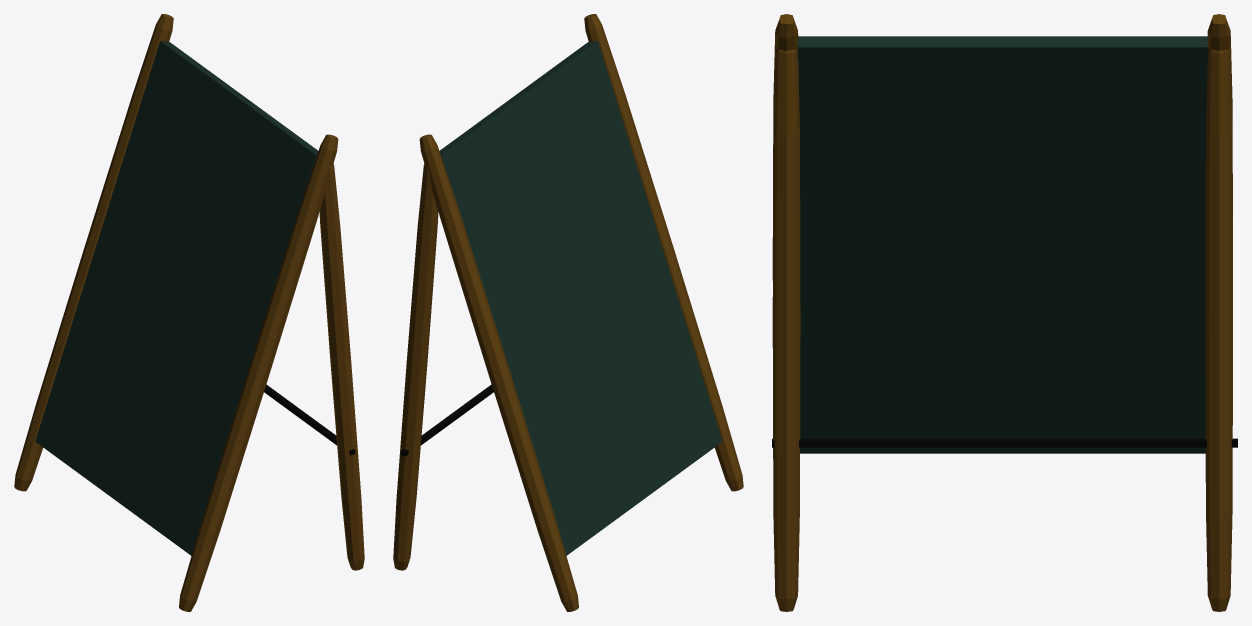
File: letrero.glb
3 views of the same model, side by side, from view 1: azimuth 30°, elevation 25°; view 2: azimuth 150°, elevation 25°; view 3: azimuth 270°, elevation 25° (orthographic). The views are drawn at different scales.
Visible parts, largest first — view 1: Cube.001, Cube, Cube.002, Cube.003; view 2: Cube.001, Cube, Cube.002, Cube.003; view 3: Cube.001, Cube.002, Cube.003, Cube.
Part boxes in pixels (x1,y1,x2,y2): Cube.001: (35,41,318,555); Cube: (14,14,338,611); Cube.002: (319,164,364,570); Cube.003: (264,384,355,455); Cube.001: (439,41,722,555); Cube: (419,14,743,611); Cube.002: (393,164,438,570); Cube.003: (401,384,493,456); Cube.001: (797,36,1207,453); Cube.002: (772,48,1232,611); Cube.003: (772,438,1237,447); Cube: (772,14,1232,280).
Bounding box in the file's own units: 2.29 × 5.26 × 3.83.
